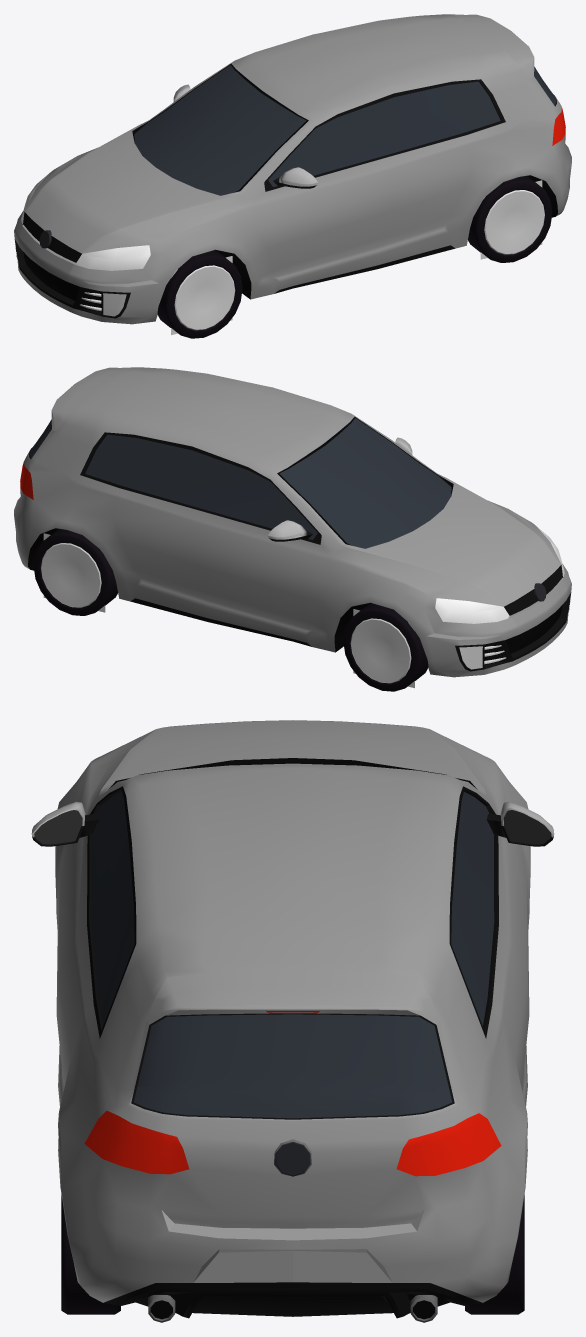
Rendered from 2012 Vw Golf GTi Low Ver.8.fbx.
3 views of the same model, one above another, from view 1: azimuth 30°, elevation 25°; view 2: azimuth 150°, elevation 25°; view 3: azimuth 270°, elevation 25° (orthographic). The views are drawn at different scales.
Parts seen in each view (by area): view 1: Body, Wheel_Front_L_Rims, Wheel_R_L_Rims, Wheel_Front_L_Tire, Wheel_R_L_Tire, Headlight_Cover, Mirror; view 2: Body, Wheel_Front_R_Rims, Wheel_R_R_Rims, Wheel_Front_R_Tire, Wheel_R_R_Tire, Headlight_Cover, Mirror; view 3: Body, Mirror, Wheel_R_L_Tire, Wheel_R_R_Tire, Exhaust_Tip, Emblem.
Boxes of the visible parts, x1=… form: Body: x1=14, y1=14, x2=571, y2=324; Wheel_Front_L_Rims: x1=174, y1=265, x2=235, y2=330; Wheel_R_L_Rims: x1=484, y1=190, x2=544, y2=254; Wheel_Front_L_Tire: x1=157, y1=250, x2=242, y2=338; Wheel_R_L_Tire: x1=468, y1=176, x2=552, y2=262; Headlight_Cover: x1=21, y1=173, x2=150, y2=270; Mirror: x1=173, y1=84, x2=317, y2=188; Body: x1=14, y1=367, x2=571, y2=677; Wheel_Front_R_Rims: x1=350, y1=618, x2=411, y2=683; Wheel_R_R_Rims: x1=41, y1=543, x2=101, y2=607; Wheel_Front_R_Tire: x1=343, y1=603, x2=428, y2=691; Wheel_R_R_Tire: x1=33, y1=529, x2=117, y2=615; Headlight_Cover: x1=435, y1=526, x2=564, y2=623; Mirror: x1=268, y1=437, x2=412, y2=541; Body: x1=55, y1=720, x2=530, y2=1318; Mirror: x1=31, y1=801, x2=554, y2=846; Wheel_R_L_Tire: x1=61, y1=1194, x2=120, y2=1314; Wheel_R_R_Tire: x1=465, y1=1194, x2=524, y2=1314; Exhaust_Tip: x1=148, y1=1295, x2=437, y2=1322; Emblem: x1=274, y1=1139, x2=311, y2=1176.
Size of the model in its own units: 16.74 by 6.05 by 7.5.
